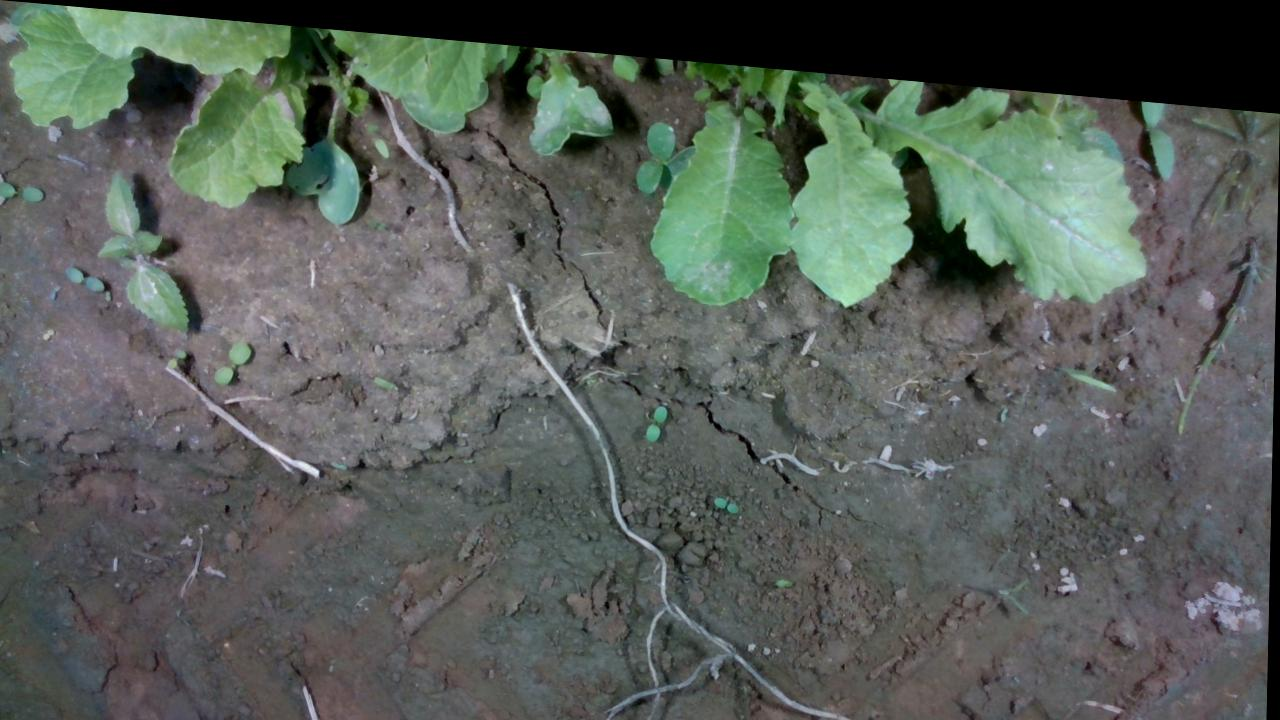weed: (64, 262, 107, 291)
